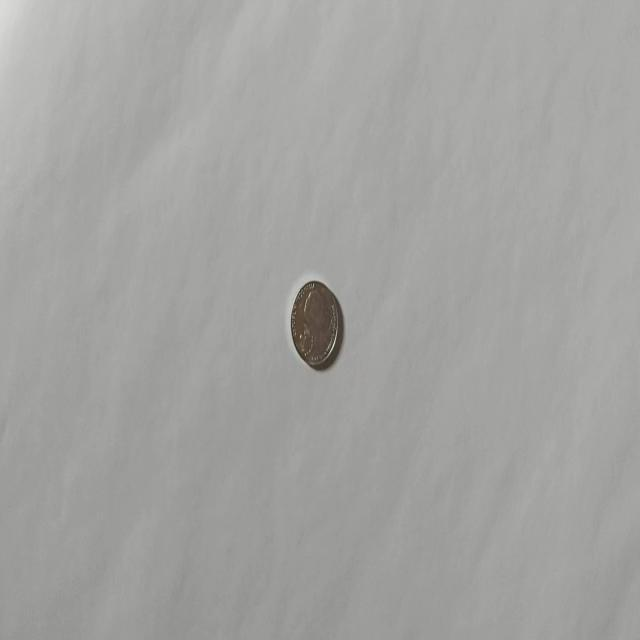seratus rupiah: (290, 278, 338, 369)
